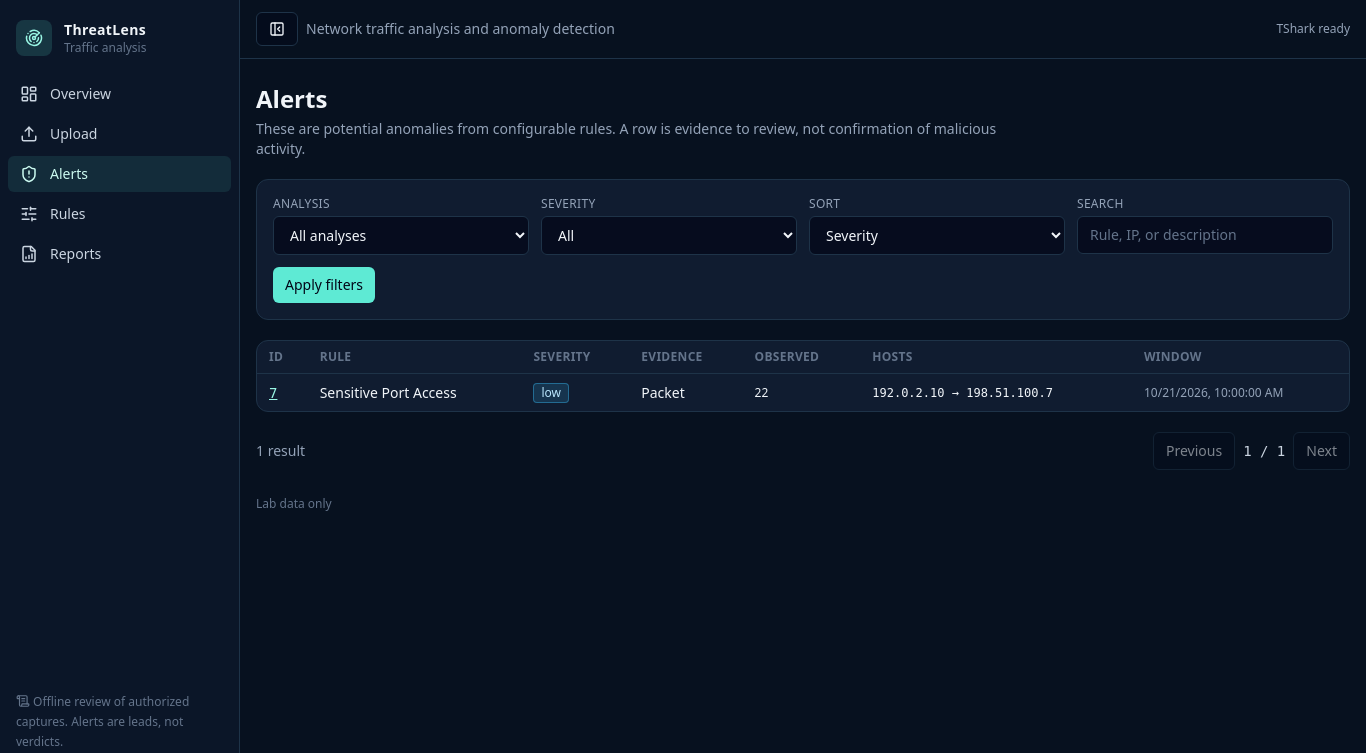
Test: evidence and configuration › opens supporting packet evidence from an analysis alert, closes it, and follows its analysis link
Expected: the text "Sensitive Port Access" is shown, [308,374,521,411]
Click the button "7" at (273, 392), box [269,382,277,402]
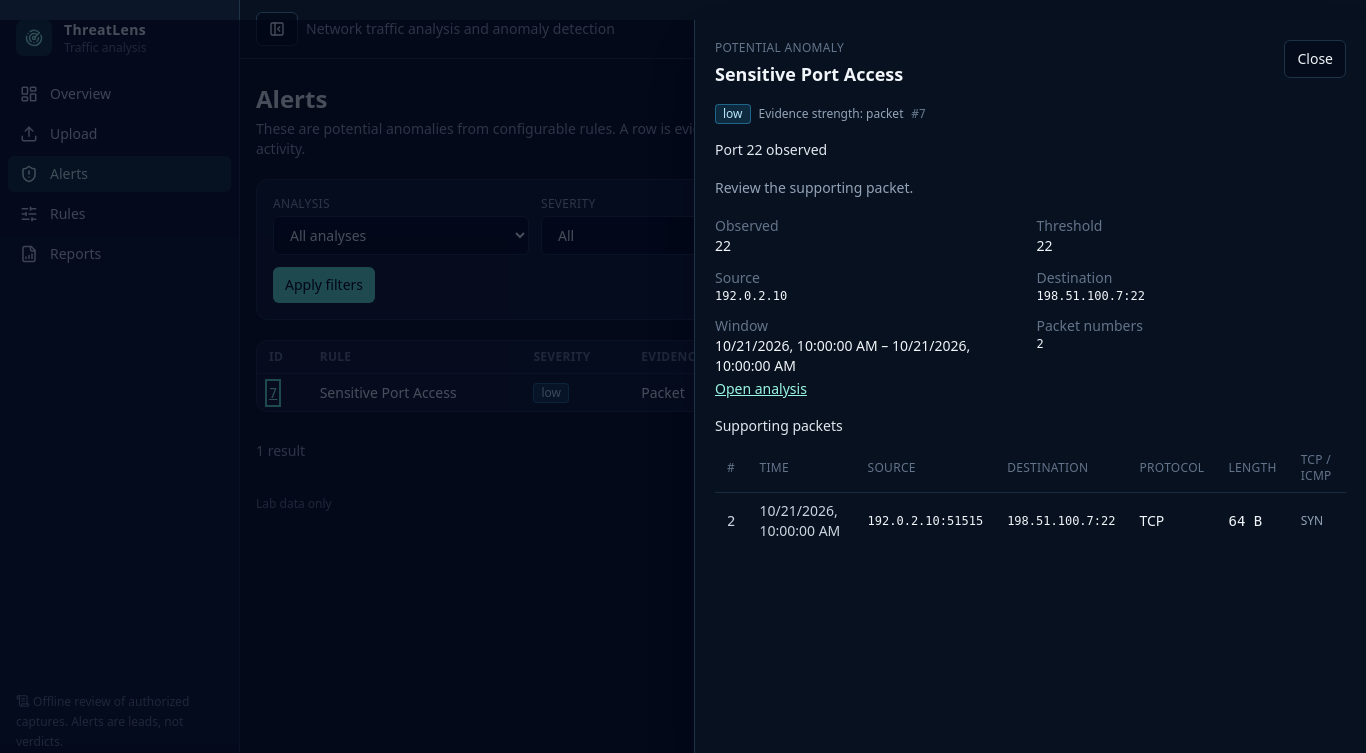
Result: the text "Review the supporting packet." is shown at [715,178,913,197]
Result: the table named "Packet metadata" shows "198.51.100.7:22" at [1007,514,1116,528]
Press Escape
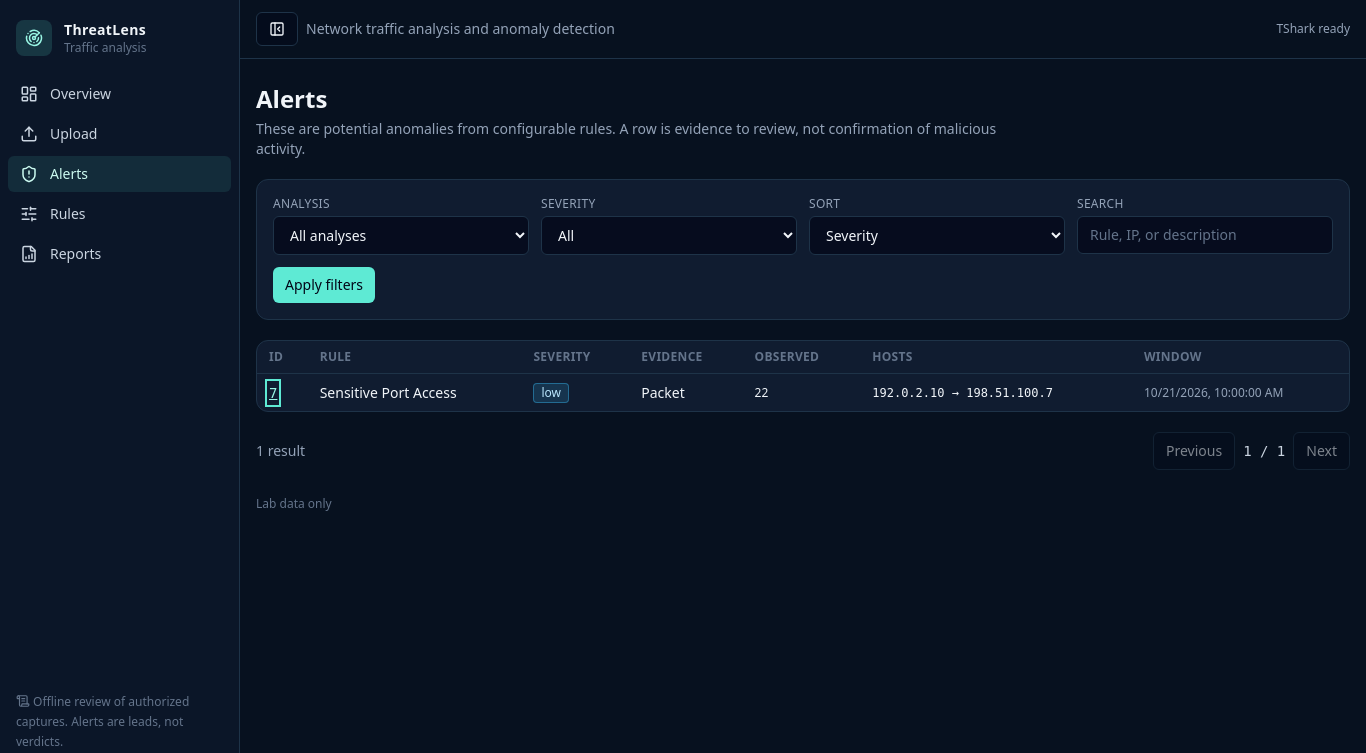
Click the button "7" at (273, 392), box [269,382,277,402]
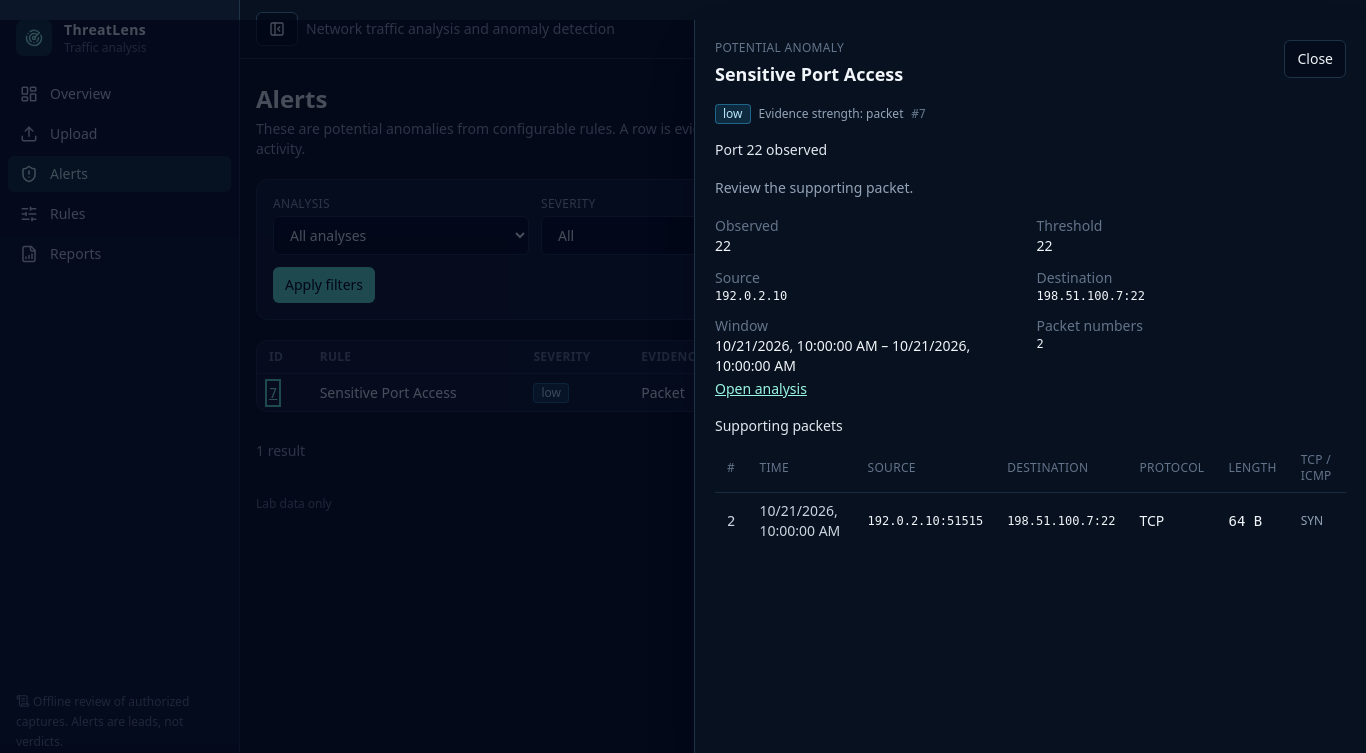
Click the link "Open analysis" at (761, 388), box [715,379,807,398]
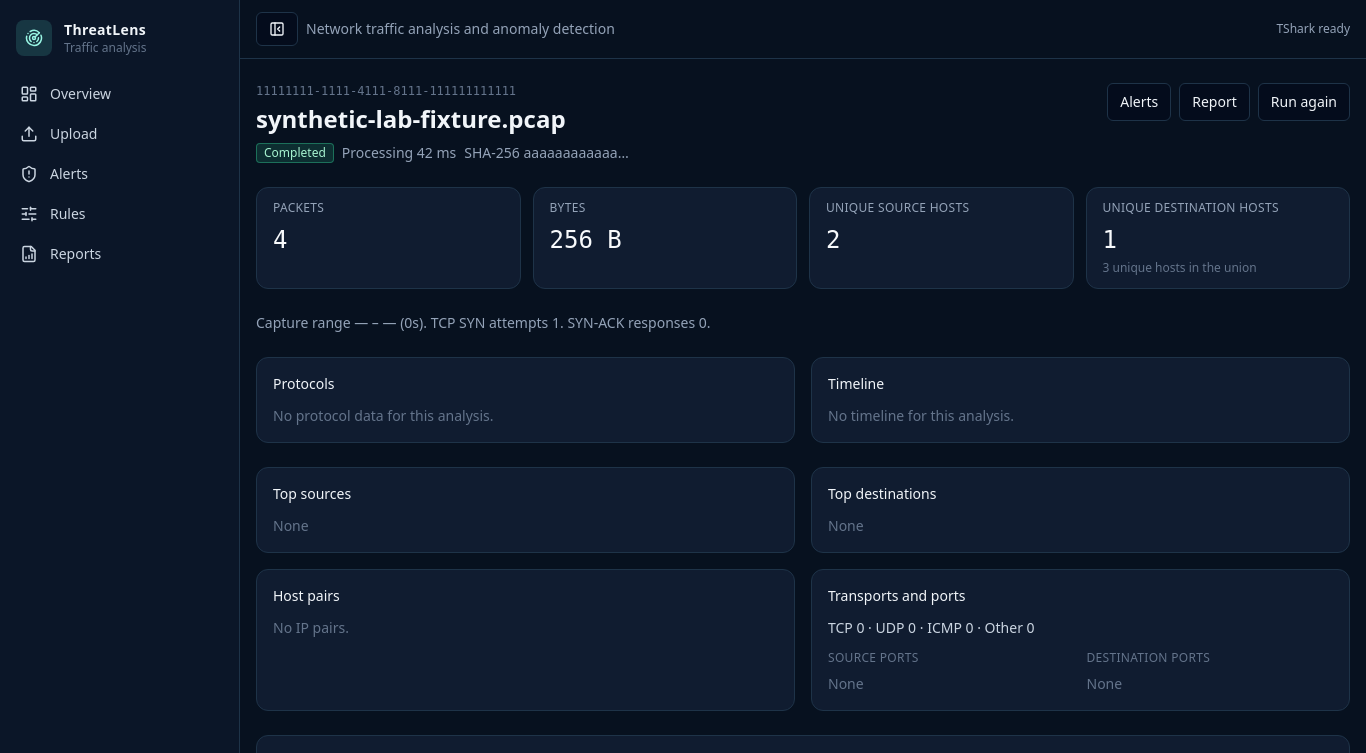
Result: the heading "synthetic-lab-fixture.pcap" is shown at [256,102,566,135]
